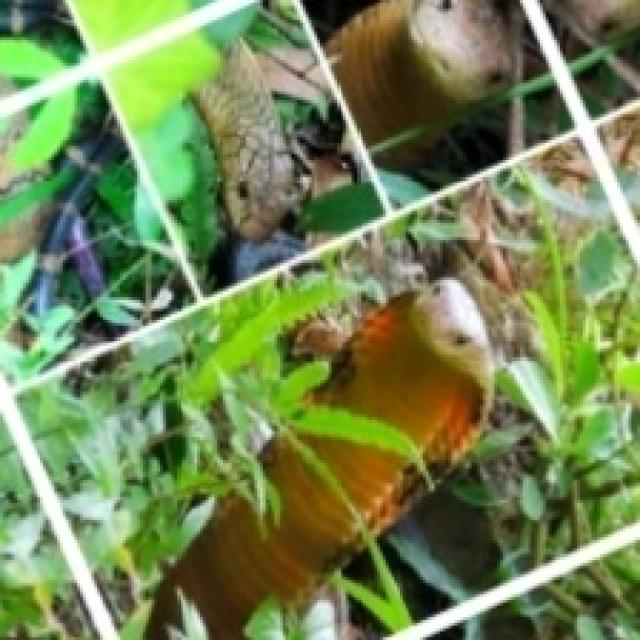king cobra: (149, 277, 491, 637), (303, 0, 509, 143), (194, 40, 309, 237), (374, 109, 503, 180)
